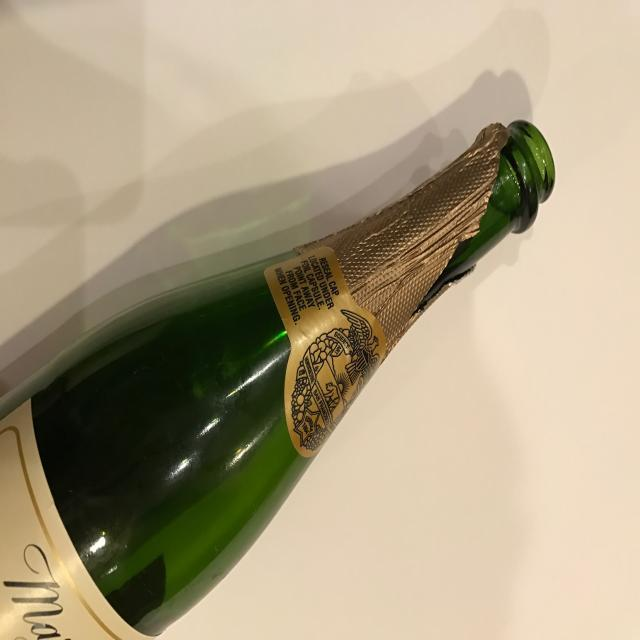glass: (0, 120, 556, 640)
